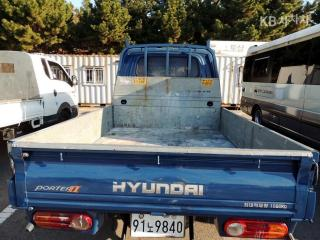0: (176, 220, 183, 234)
1: (140, 219, 146, 233)
4: (169, 220, 176, 234)
8: (162, 220, 169, 234)
9: (132, 219, 140, 232), (155, 219, 161, 234)
노: (146, 221, 155, 234)
